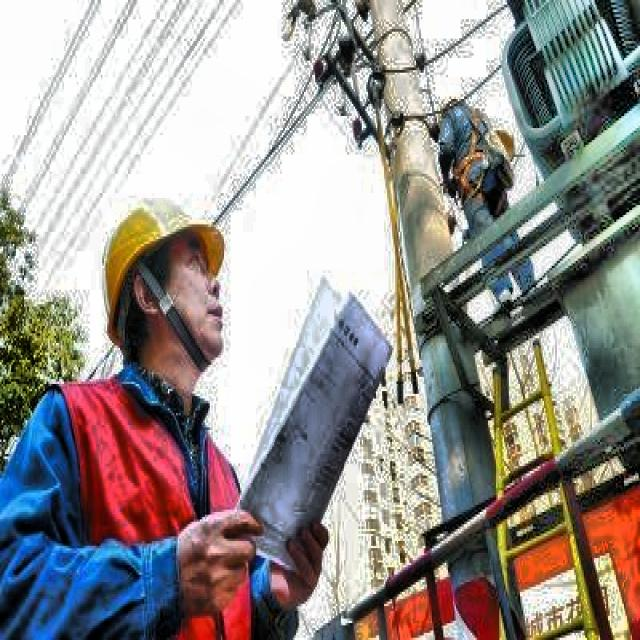helmet: (98, 188, 232, 377)
